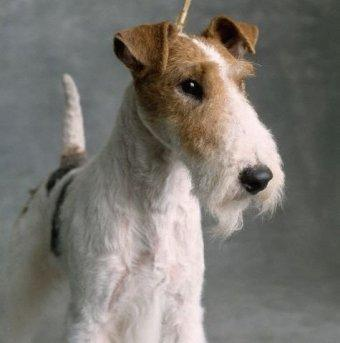wire-haired_fox_terrier: (9, 13, 289, 342)
